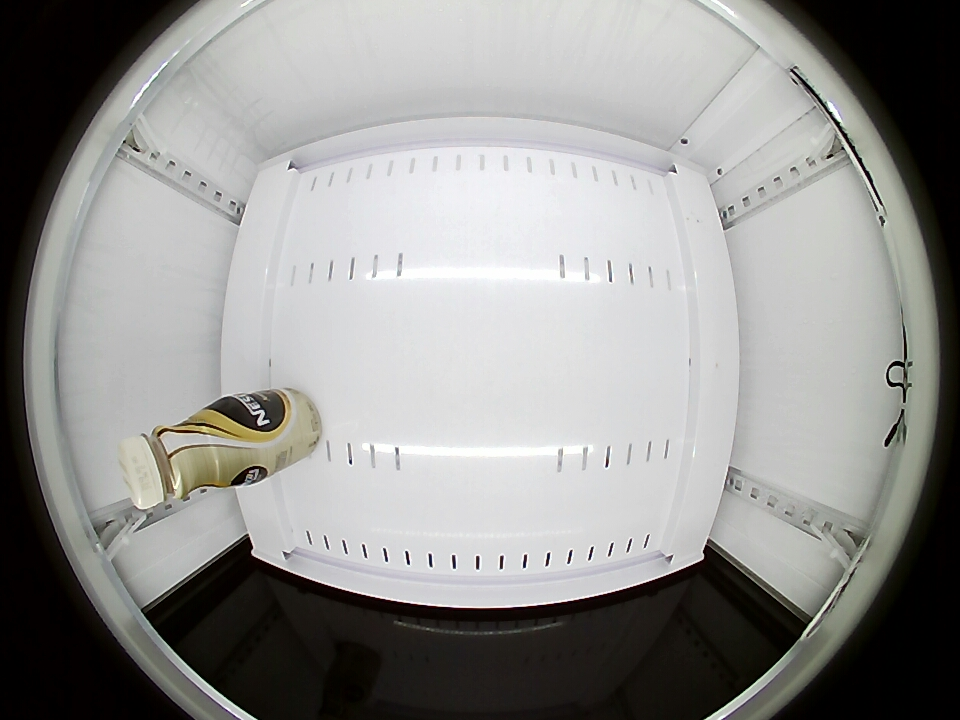kafei: (117, 399, 259, 509)
